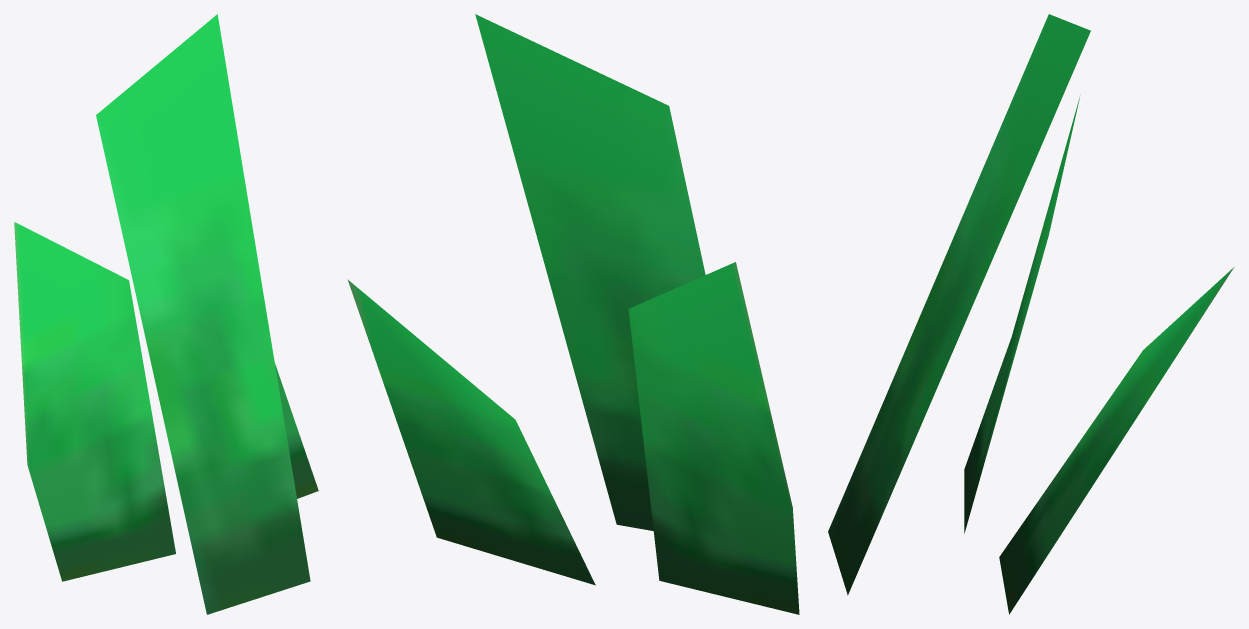
File: fg_grassB.dae
The picture shows the model from 3 angles, left to right: view 1: azimuth 30°, elevation 25°; view 2: azimuth 150°, elevation 25°; view 3: azimuth 270°, elevation 25°; orthographic projection. The views are drawn at different scales.
Parts seen in each view (by area): view 1: fg_grassB; view 2: fg_grassB; view 3: fg_grassB.
Part boxes in pixels (x1,y1,x2,y2): fg_grassB: (14,14,318,614); fg_grassB: (347,14,799,614); fg_grassB: (828,14,1234,614).
Size of the model in its own units: 13.26 by 21.31 by 13.76.
1 material, 1 textured.
